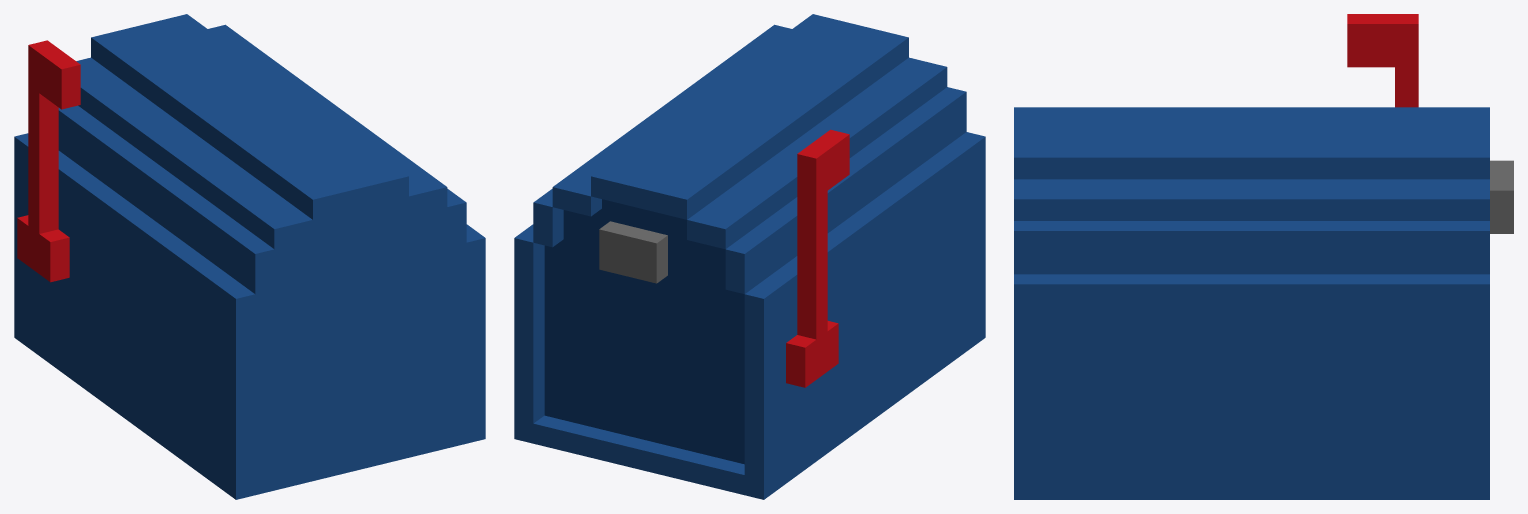
The model's file is mailbox.dae.
3 views of the same model, side by side, from view 1: azimuth 30°, elevation 25°; view 2: azimuth 150°, elevation 25°; view 3: azimuth 270°, elevation 25° (orthographic). The views are drawn at different scales.
Parts seen in each view (by area): view 1: PlaneCOL; view 2: PlaneCOL; view 3: PlaneCOL.
Boxes of the visible parts, <box> form: PlaneCOL: <box>14,14,485,499</box>; PlaneCOL: <box>514,14,985,499</box>; PlaneCOL: <box>1014,14,1513,499</box>.
Bounding box in the file's own units: 1.4 × 2.1 × 1.6.
